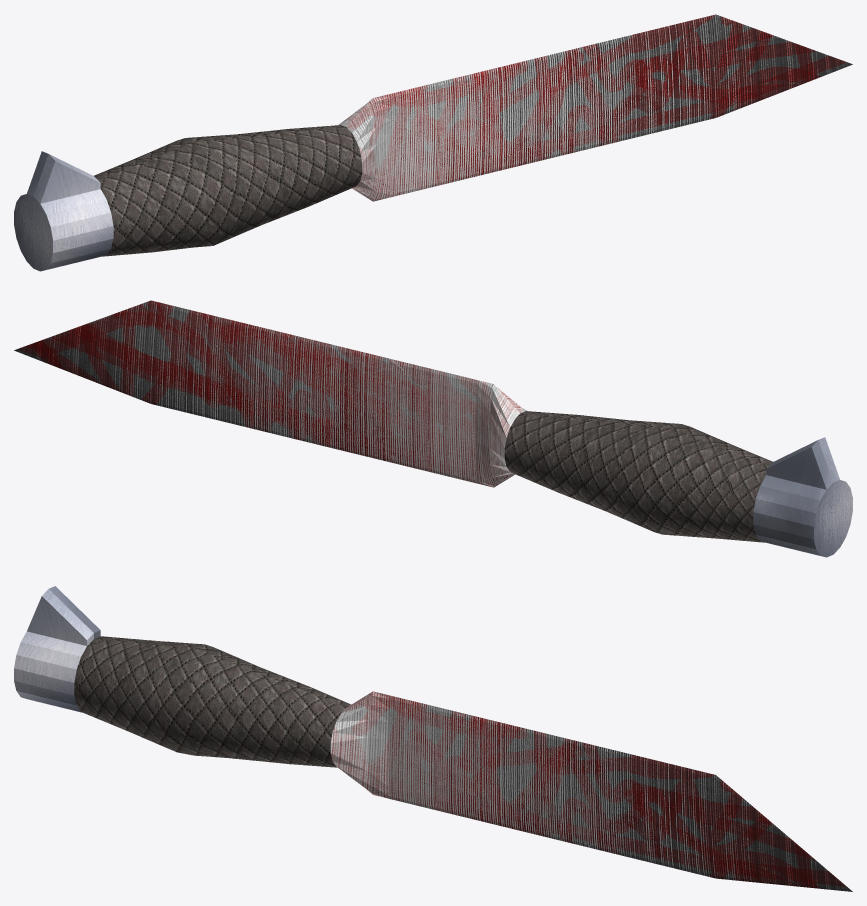
Rendered from NEW - Knife.FBX.
The picture shows the model from 3 angles, top to bottom: view 1: azimuth 30°, elevation 25°; view 2: azimuth 150°, elevation 25°; view 3: azimuth 330°, elevation 25°; orthographic projection.
Parts seen in each view (by area): view 1: Cylinder001; view 2: Cylinder001; view 3: Cylinder001.
Boxes of the visible parts, left/top/right/bottom form: Cylinder001: left=14, top=14, right=852, bottom=271; Cylinder001: left=14, top=300, right=852, bottom=557; Cylinder001: left=14, top=586, right=852, bottom=891.
Size of the model in its own units: 37.46 by 5.55 by 4.42.
Materials: 1 (1 with a texture image).
